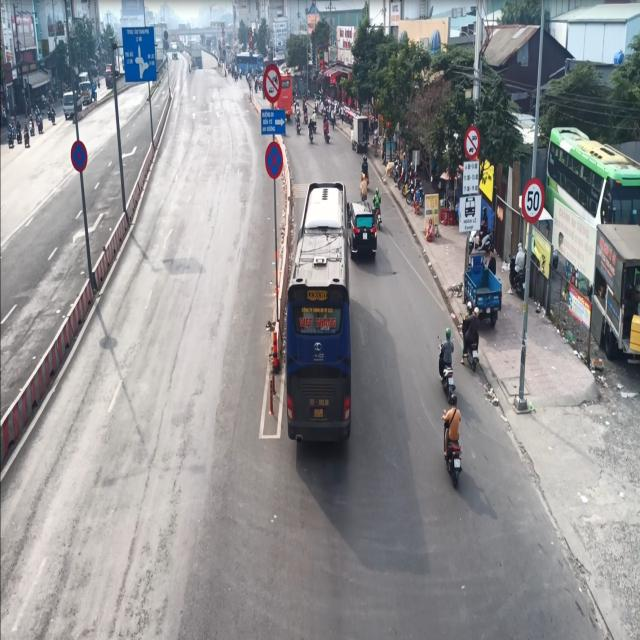bus: (286, 182, 361, 453)
car: (348, 202, 380, 270)
motor: (441, 393, 466, 494), (437, 321, 457, 395)
